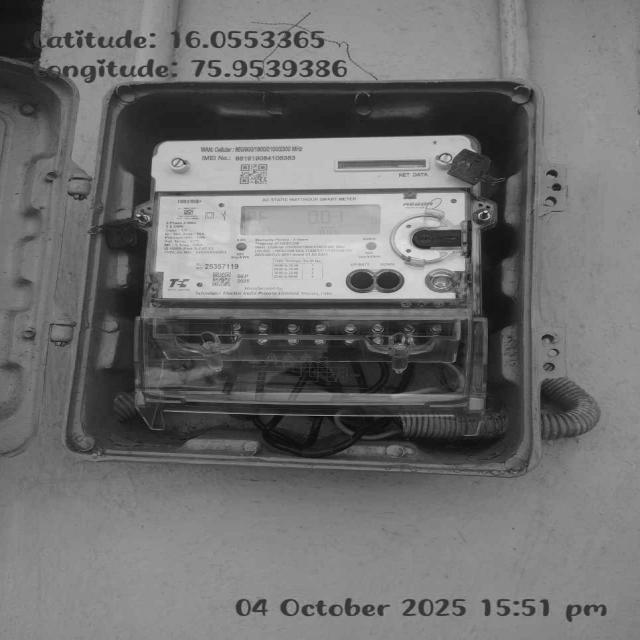meter: (157, 140, 483, 316)
